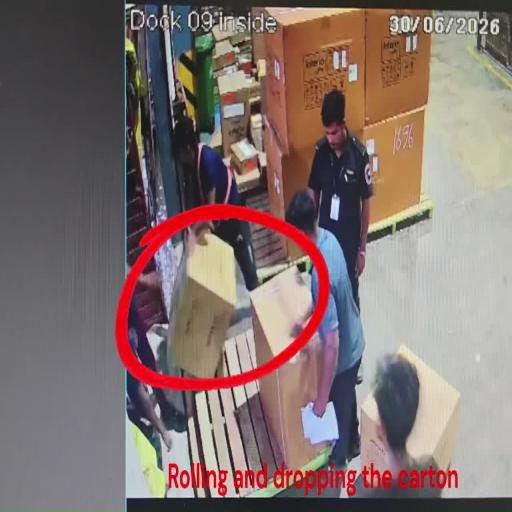carton: (250, 261, 332, 471), (360, 344, 462, 497), (263, 10, 365, 162), (166, 230, 247, 380), (363, 9, 435, 128), (362, 107, 426, 227), (264, 124, 320, 222), (220, 72, 250, 158), (230, 138, 260, 189), (212, 34, 238, 90)
pallet: (184, 324, 282, 504), (242, 188, 288, 270)
person: (286, 193, 364, 468), (172, 116, 258, 292), (308, 90, 373, 310), (126, 259, 186, 462), (375, 355, 421, 473)
